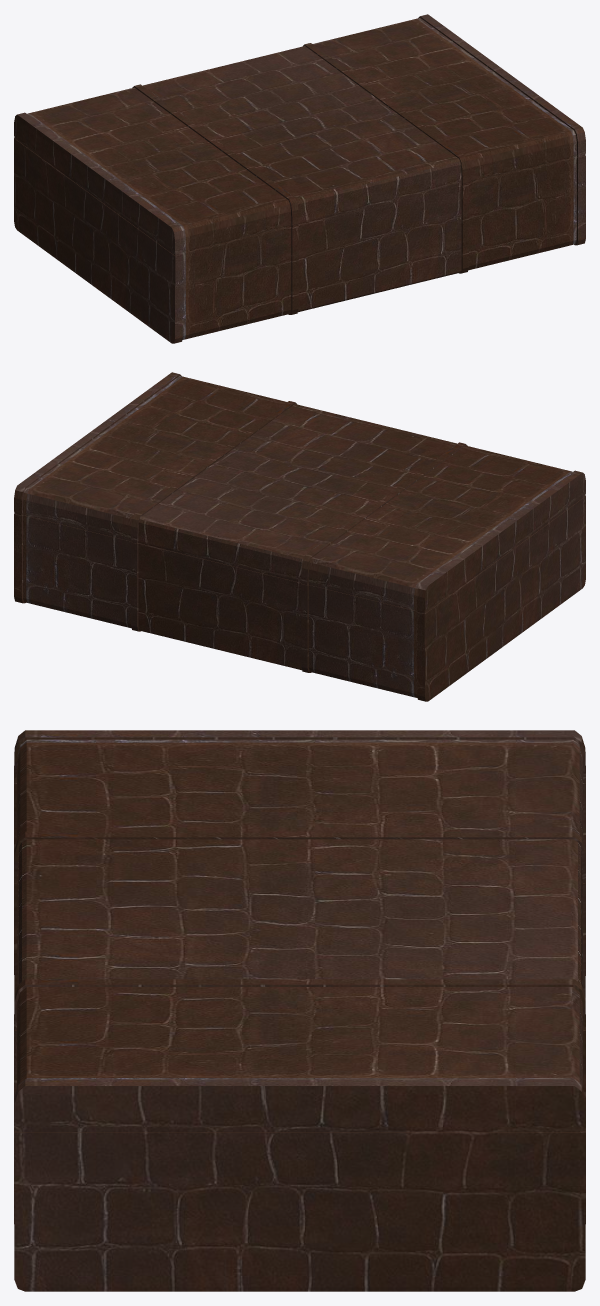
The model's file is hezi1.fbx.
The picture shows the model from 3 angles, top to bottom: view 1: azimuth 30°, elevation 25°; view 2: azimuth 150°, elevation 25°; view 3: azimuth 270°, elevation 25°; orthographic projection. The views are drawn at different scales.
Visible parts, largest first — view 1: hezi1; view 2: hezi1; view 3: hezi1.
Part boxes in pixels (x1,y1,x2,y2): hezi1: (14,14,585,343); hezi1: (14,372,585,701); hezi1: (14,730,585,1291).
Bounding box in the file's own units: 24.63 × 6.63 × 16.72.
